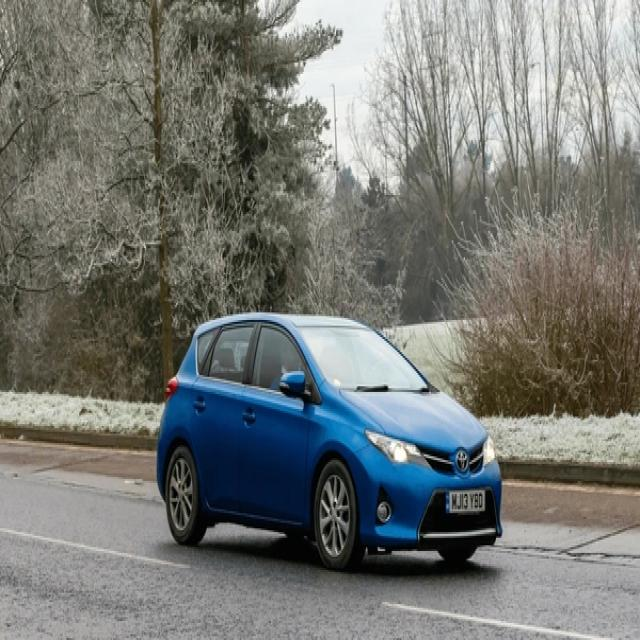toyota: (457, 448, 470, 474)
